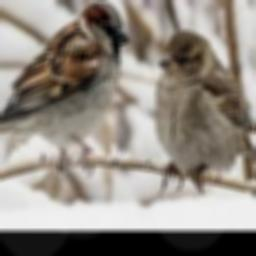Sparrow: (0, 0, 129, 178), (154, 29, 256, 197)
